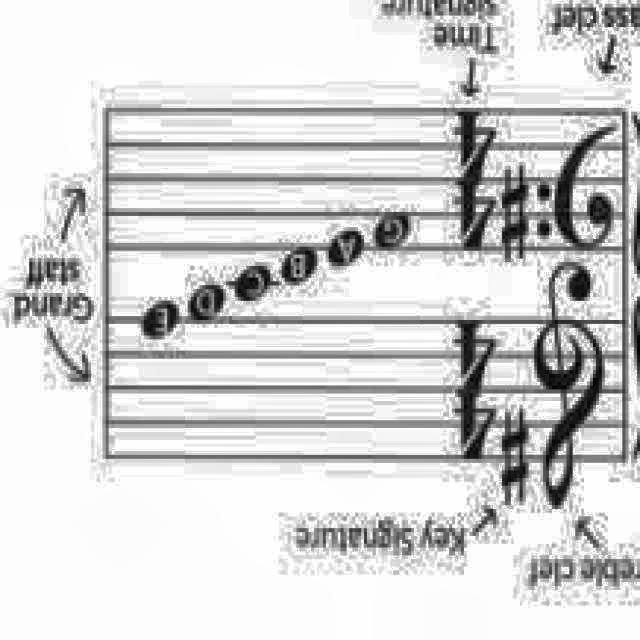Bass-clef: (534, 113, 618, 255)
Treble-clef: (528, 256, 606, 524)
